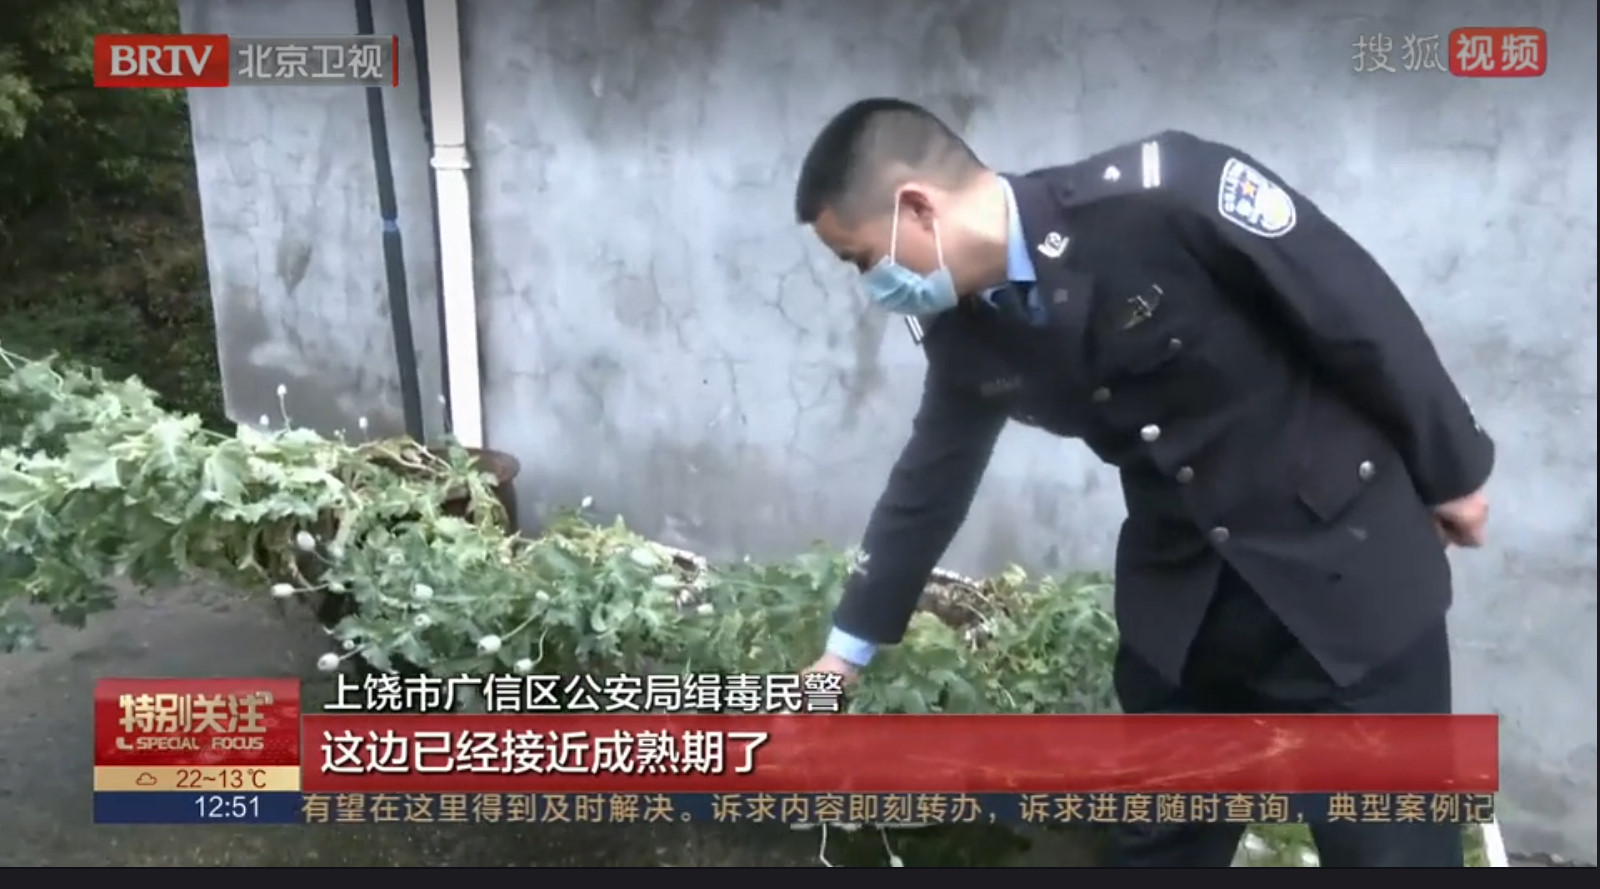Poppy: (285, 503, 1124, 721), (1, 338, 339, 617)
